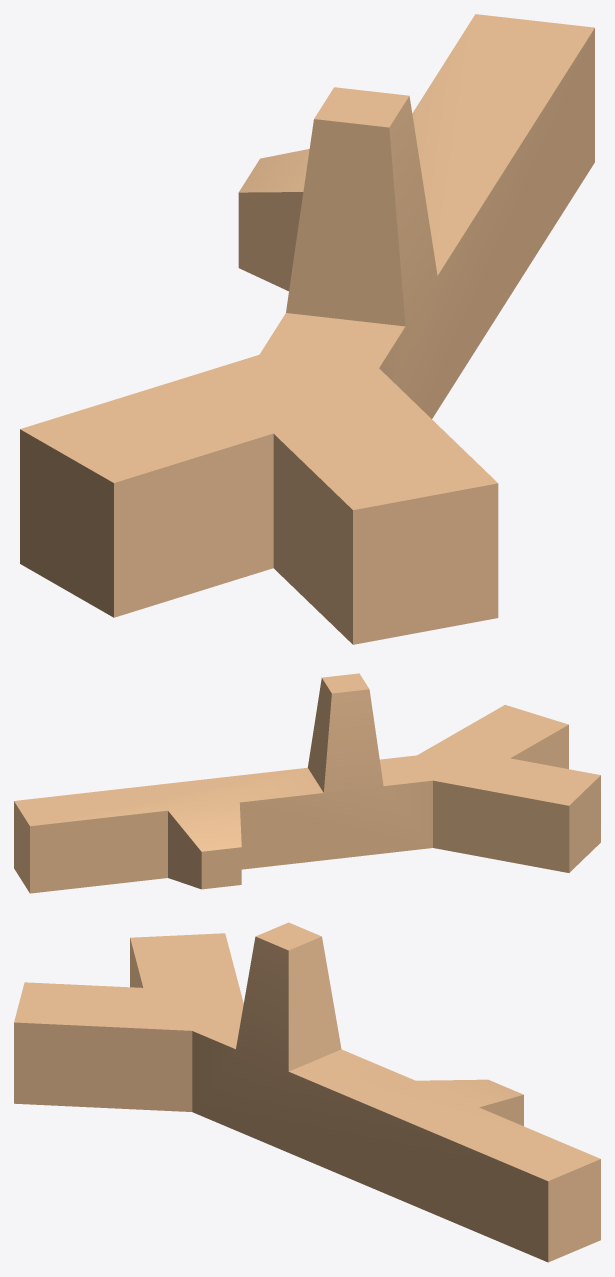
3 renders of one model, top to bottom at view 1: azimuth 30°, elevation 25°; view 2: azimuth 150°, elevation 25°; view 3: azimuth 270°, elevation 25°, orthographic. The views are drawn at different scales.
Parts seen in each view (by area): view 1: resourceWood; view 2: resourceWood; view 3: resourceWood.
Boxes of the visible parts, x1,y1,x2,y2 form: resourceWood: [20, 14, 594, 644]; resourceWood: [14, 673, 600, 893]; resourceWood: [14, 922, 600, 1262].
Bounding box in the file's own units: 0.1711 × 0.0624 × 0.1711.
